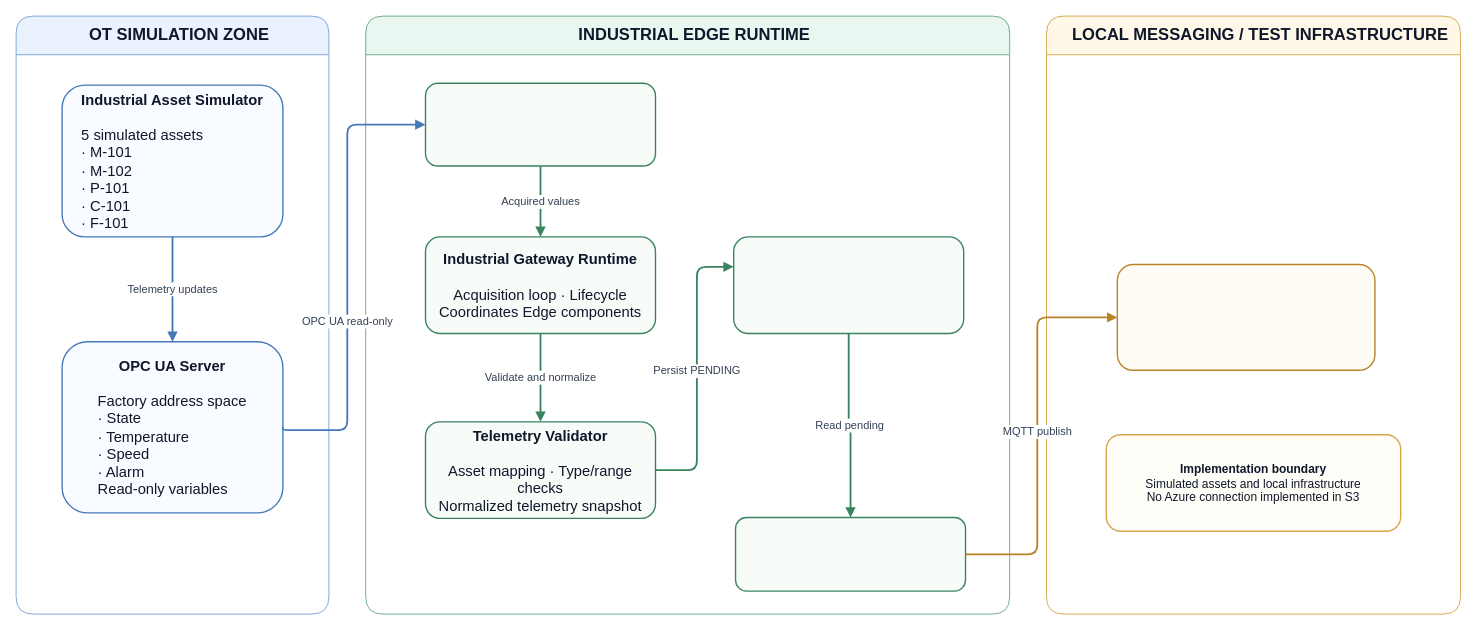
The diagram is 1477 pixels wide and 630 high, and some of its shapes have lost their labels. Here are the shapes that lost their labels. From the top down, the centre of each, then its label:
pixel 540 124: OPC UA Client Connect · Read assets · Reconnect
pixel 848 285: SQLite Persistent Buffer PENDING / SENT Local persistence and replay
pixel 1245 317: Eclipse Mosquitto Broker Local broker for development and integration testing
pixel 850 553: MQTT Publisher QoS 1 · Non-retained messages Pending message delivery
